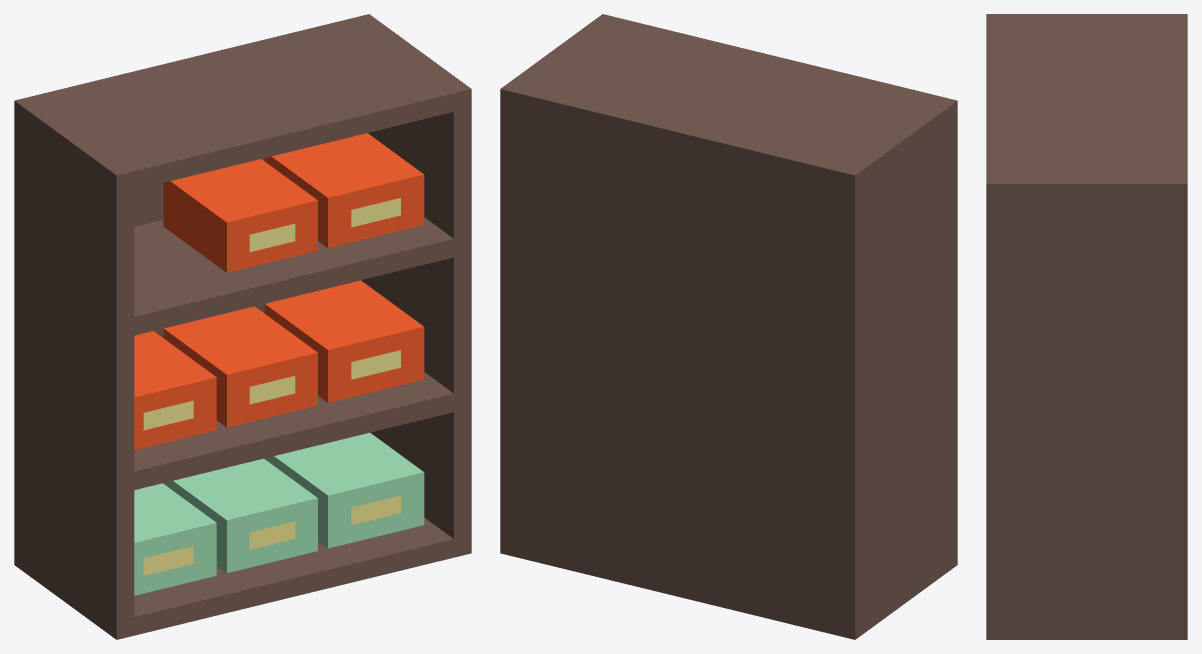
File: Cabinet.fbx
The picture shows the model from 3 angles, left to right: view 1: azimuth 30°, elevation 25°; view 2: azimuth 150°, elevation 25°; view 3: azimuth 270°, elevation 25°; orthographic projection.
Visible parts, largest first — view 1: Cabinet; view 2: Cabinet; view 3: Cabinet.
Boxes of the visible parts, x1,y1,x2,y2 form: Cabinet: (14, 14, 471, 639); Cabinet: (500, 14, 957, 639); Cabinet: (986, 14, 1187, 639).
Size of the model in its own units: 78.74 by 98.43 by 39.37.
